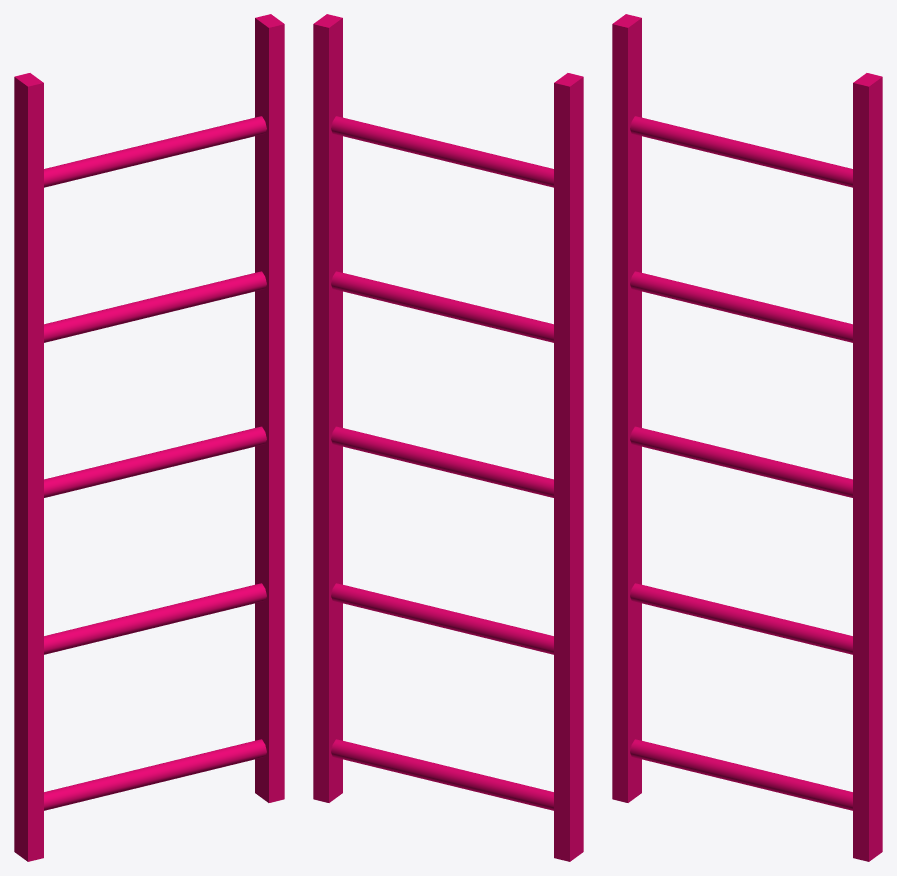
File: Ladder_Wood_01_Half_Lod0.fbx
3 views of the same model, side by side, from view 1: azimuth 30°, elevation 25°; view 2: azimuth 150°, elevation 25°; view 3: azimuth 330°, elevation 25° (orthographic).
Visible parts, largest first — view 1: Ladder_Wood_01_Half_Lod0; view 2: Ladder_Wood_01_Half_Lod0; view 3: Ladder_Wood_01_Half_Lod0.
Boxes of the visible parts, x1,y1,x2,y2 form: Ladder_Wood_01_Half_Lod0: (14,14,284,861); Ladder_Wood_01_Half_Lod0: (313,14,583,861); Ladder_Wood_01_Half_Lod0: (612,14,882,861).
Bounding box in the file's own units: 69.92 × 202 × 6.5.
